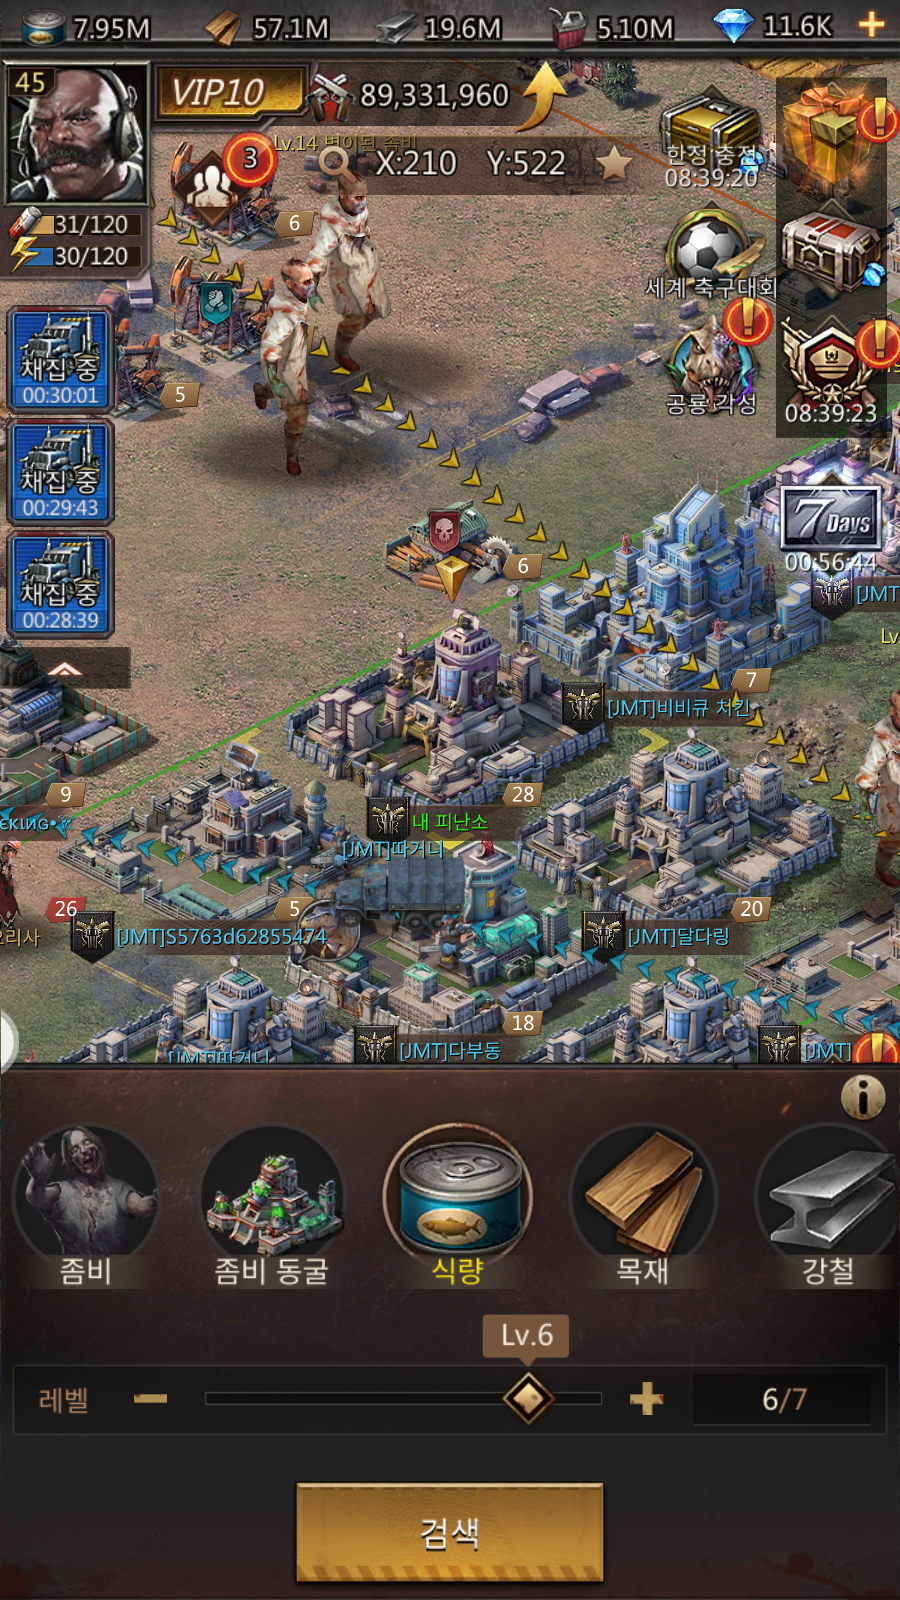rss_food_in_panel: (380, 1115, 544, 1293)
rss_lv6: (480, 1313, 567, 1358)
rss_minus_in_panel: (124, 1371, 176, 1424)
rss_plus_in_panel: (622, 1369, 673, 1422)
rss_search_in_panel: (295, 1484, 604, 1580)
rss_steel_in_panel: (755, 1115, 900, 1296)
rss_wood_in_panel: (569, 1116, 724, 1293)
troops_cnt_3: (162, 120, 293, 253)
